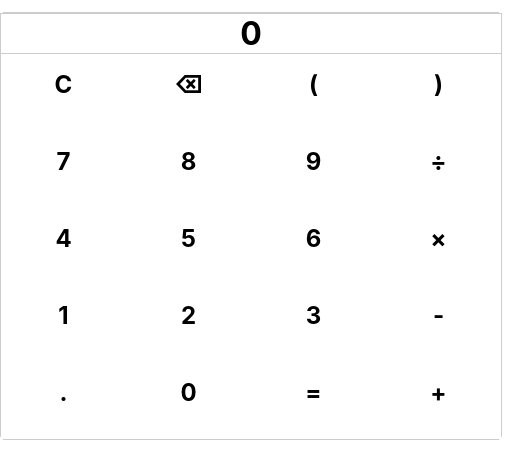
Test case: displays the correct value after a number is pressed
Click the text with test id "number-7". click: (64,162)
box: [1, 131, 126, 192]
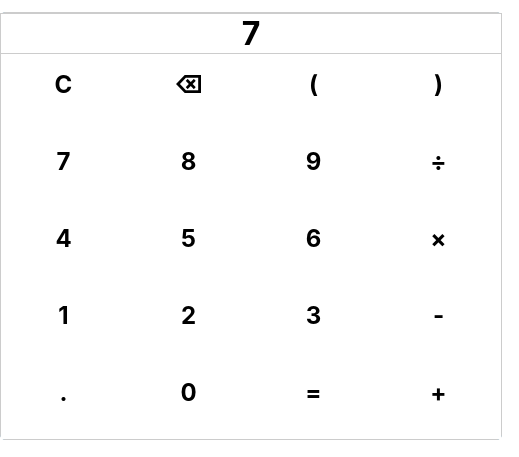
Expected: the text with test id "display" reads "7", [242, 14, 260, 53]
